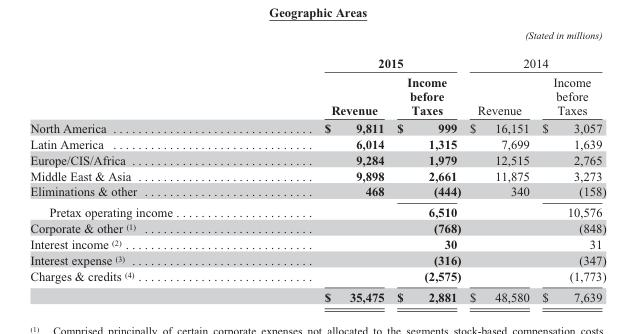table: (29, 29, 605, 303)
table column: (29, 29, 247, 303), (247, 29, 389, 303), (389, 29, 464, 303), (464, 29, 535, 303), (535, 29, 605, 303)
table column header: (29, 29, 605, 118)
table row: (29, 72, 605, 118), (29, 47, 605, 72), (29, 201, 605, 220), (29, 29, 605, 47), (29, 183, 605, 201), (29, 267, 605, 285), (29, 285, 605, 303), (29, 118, 605, 135), (29, 135, 605, 151), (29, 151, 605, 167), (29, 167, 605, 183), (29, 235, 605, 251), (29, 251, 605, 267), (29, 220, 605, 235)
table spanning cell: (247, 47, 464, 72), (389, 29, 605, 47), (464, 47, 605, 72)
